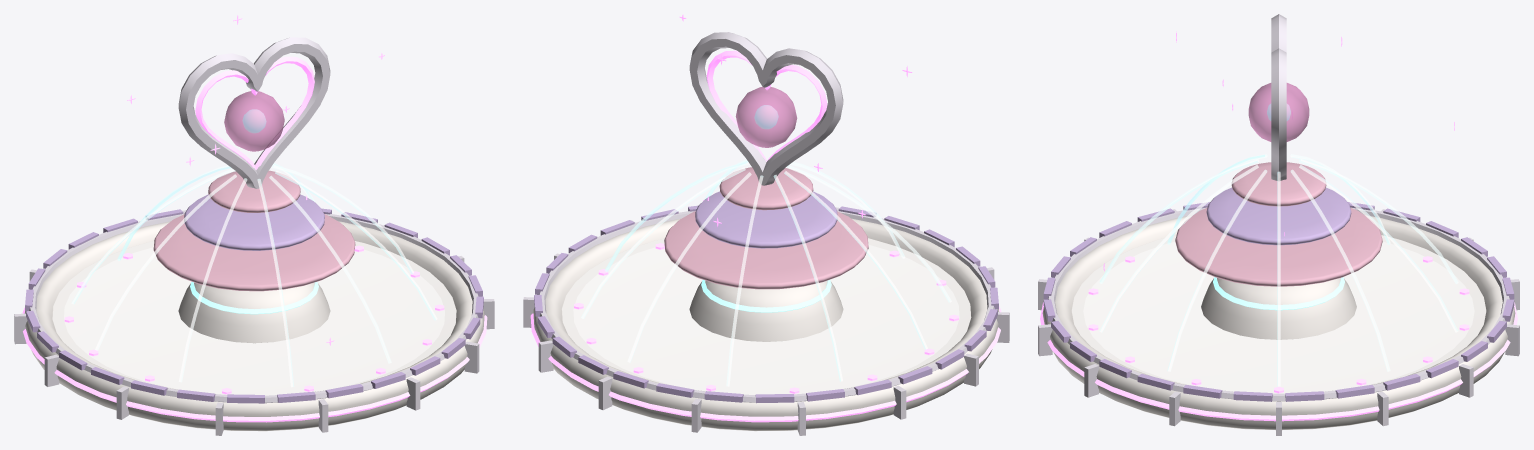
File: plaza_centerpiece.glb
The picture shows the model from 3 angles, left to right: view 1: azimuth 30°, elevation 25°; view 2: azimuth 150°, elevation 25°; view 3: azimuth 270°, elevation 25°; orthographic projection. The views are drawn at different scales.
Parts seen in each view (by area): view 1: plaza_centerpiece; view 2: plaza_centerpiece; view 3: plaza_centerpiece.
Boxes of the visible parts, box(x1,y1,x2,y2) form: plaza_centerpiece: box(14, 15, 494, 435); plaza_centerpiece: box(523, 14, 1009, 435); plaza_centerpiece: box(1038, 14, 1519, 435).
Size of the model in its own units: 7.9 by 5.43 by 7.72.
